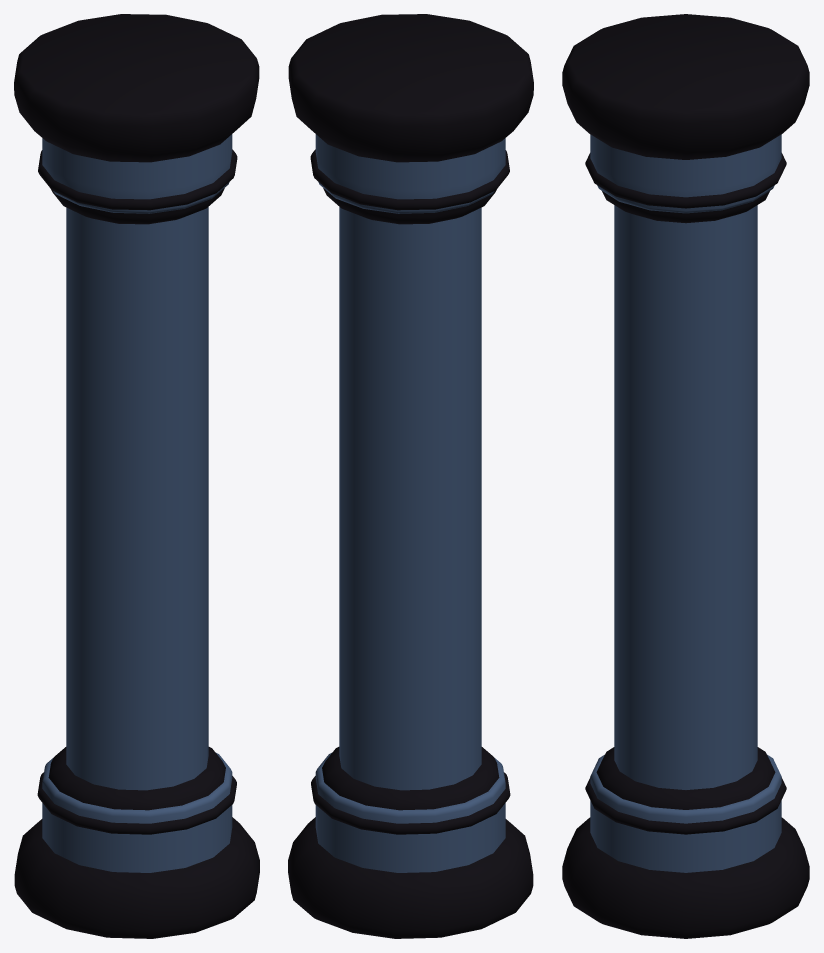
Rendered from column-1.obj.
The picture shows the model from 3 angles, left to right: view 1: azimuth 30°, elevation 25°; view 2: azimuth 150°, elevation 25°; view 3: azimuth 270°, elevation 25°; orthographic projection.
Parts seen in each view (by area): view 1: Cylinder_Cylinder.005, Cylinder.008_Cylinder.009, Cylinder.003_Cylinder.004, Cylinder.004_Cylinder, Cylinder.005_Cylinder.006, Cylinder.001, Cylinder.002, Cylinder.007_Cylinder.008, Cylinder.006_Cylinder.007; view 2: Cylinder_Cylinder.005, Cylinder.008_Cylinder.009, Cylinder.003_Cylinder.004, Cylinder.004_Cylinder, Cylinder.005_Cylinder.006, Cylinder.001, Cylinder.002, Cylinder.007_Cylinder.008, Cylinder.006_Cylinder.007; view 3: Cylinder_Cylinder.005, Cylinder.008_Cylinder.009, Cylinder.003_Cylinder.004, Cylinder.004_Cylinder, Cylinder.005_Cylinder.006, Cylinder.001, Cylinder.007_Cylinder.008, Cylinder.002, Cylinder.006_Cylinder.007.
Part boxes in pixels (x1,y1,x2,y2): Cylinder_Cylinder.005: (66, 207, 208, 790); Cylinder.008_Cylinder.009: (14, 14, 259, 162); Cylinder.003_Cylinder.004: (14, 817, 259, 938); Cylinder.004_Cylinder: (42, 753, 232, 872); Cylinder.005_Cylinder.006: (42, 134, 232, 213); Cylinder.001: (48, 747, 225, 810); Cylinder.002: (37, 772, 236, 834); Cylinder.007_Cylinder.008: (38, 149, 237, 210); Cylinder.006_Cylinder.007: (51, 188, 224, 224); Cylinder_Cylinder.005: (339, 207, 481, 790); Cylinder.008_Cylinder.009: (288, 14, 533, 162); Cylinder.003_Cylinder.004: (288, 817, 533, 938); Cylinder.004_Cylinder: (315, 753, 505, 872); Cylinder.005_Cylinder.006: (315, 134, 505, 213); Cylinder.001: (322, 747, 499, 810); Cylinder.002: (311, 772, 510, 834); Cylinder.007_Cylinder.008: (310, 149, 509, 210); Cylinder.006_Cylinder.007: (323, 188, 496, 224); Cylinder_Cylinder.005: (614, 205, 757, 789); Cylinder.008_Cylinder.009: (562, 14, 809, 159); Cylinder.003_Cylinder.004: (562, 817, 809, 938); Cylinder.004_Cylinder: (590, 754, 781, 872); Cylinder.005_Cylinder.006: (590, 134, 781, 213); Cylinder.001: (596, 747, 775, 809); Cylinder.007_Cylinder.008: (585, 153, 786, 208); Cylinder.002: (585, 777, 786, 834); Cylinder.006_Cylinder.007: (602, 191, 769, 223).
Bounding box in the file's own units: 1.04 × 3.82 × 1.03.
